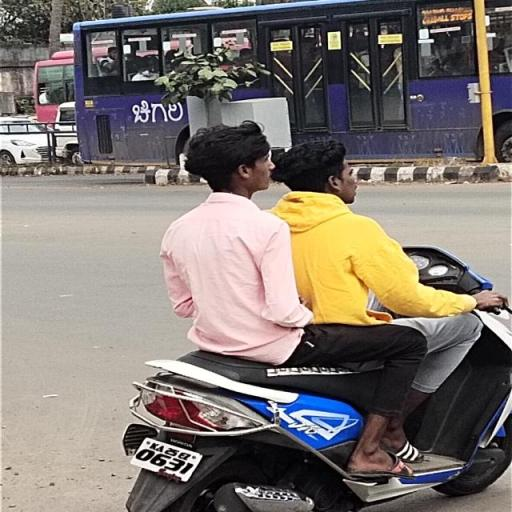bike: (86, 116, 506, 512)
numberplate: (128, 430, 214, 492)
withouthelmet: (190, 126, 263, 184), (287, 141, 350, 193)
